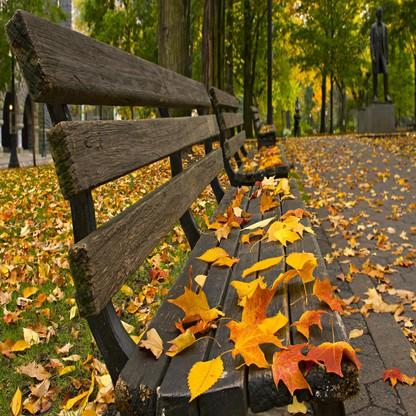obstacle: (6, 7, 363, 412)
